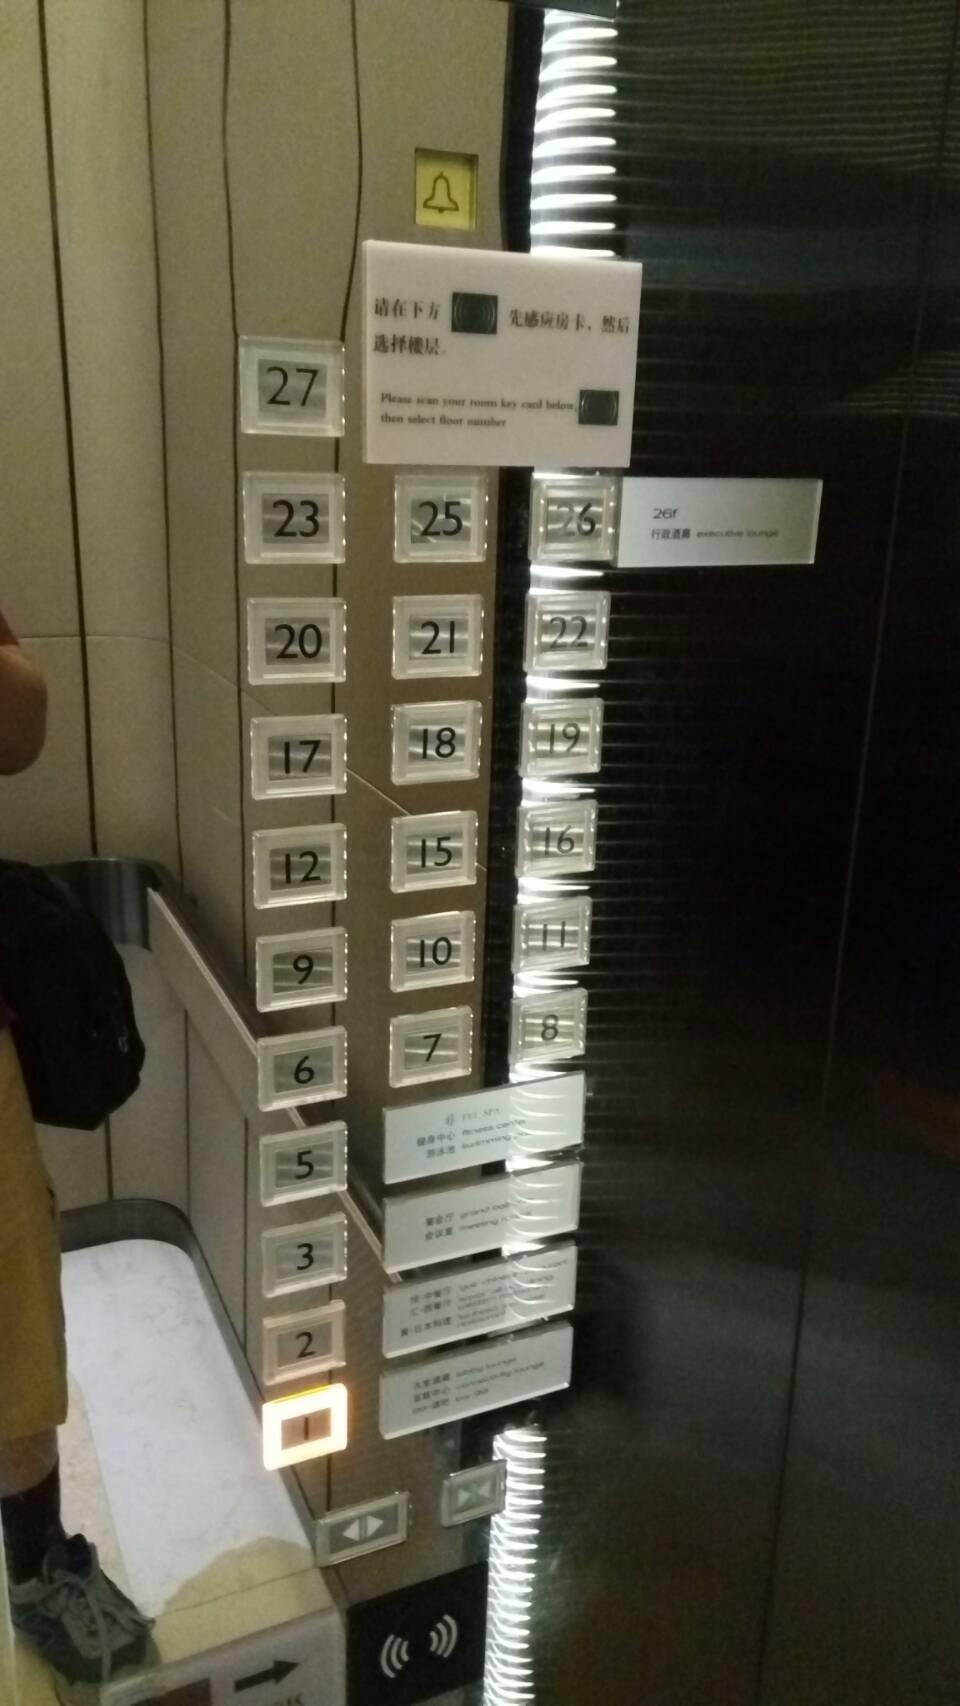1: (263, 1381, 348, 1469)
10: (388, 912, 475, 991)
11: (512, 895, 590, 967)
12: (256, 824, 348, 912)
15: (390, 805, 478, 895)
16: (519, 799, 598, 879)
17: (253, 715, 349, 801)
18: (390, 697, 483, 782)
19: (520, 695, 602, 779)
2: (261, 1303, 348, 1379)
20: (245, 599, 343, 680)
21: (392, 591, 484, 680)
22: (525, 582, 611, 676)
23: (243, 475, 343, 569)
25: (392, 479, 491, 559)
26: (531, 469, 621, 566)
27: (244, 337, 346, 431)
3: (256, 1209, 350, 1301)
5: (258, 1122, 347, 1205)
6: (256, 1022, 350, 1112)
7: (384, 1005, 475, 1086)
8: (508, 989, 593, 1067)
9: (256, 927, 350, 1012)
alarm: (411, 144, 482, 234)
close: (438, 1456, 511, 1528)
open: (315, 1488, 411, 1565)
